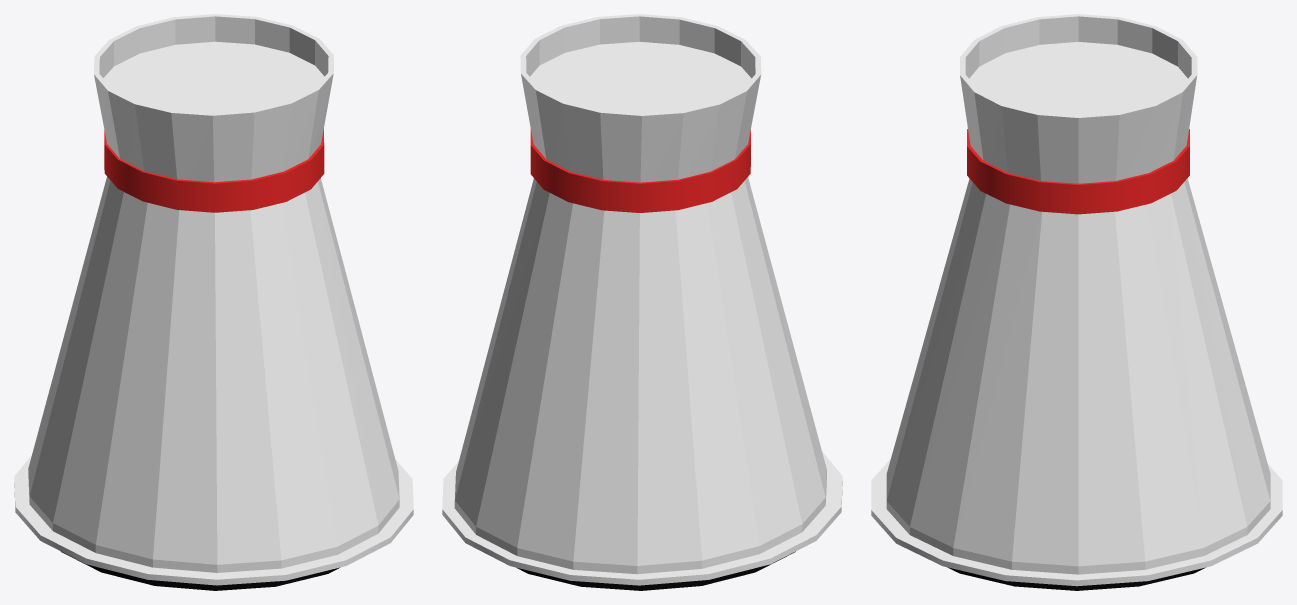
Rendered from Atom Plant 1.FBX.
3 renders of one model, left to right at view 1: azimuth 30°, elevation 25°; view 2: azimuth 150°, elevation 25°; view 3: azimuth 270°, elevation 25°, orthographic.
Parts seen in each view (by area): view 1: Cylinder009; view 2: Cylinder009; view 3: Cylinder009.
Boxes of the visible parts, x1,y1,x2,y2 form: Cylinder009: (14,14,413,590); Cylinder009: (442,14,842,590); Cylinder009: (871,14,1282,590).
Bounding box in the file's own units: 44.4 × 54.87 × 45.28.
